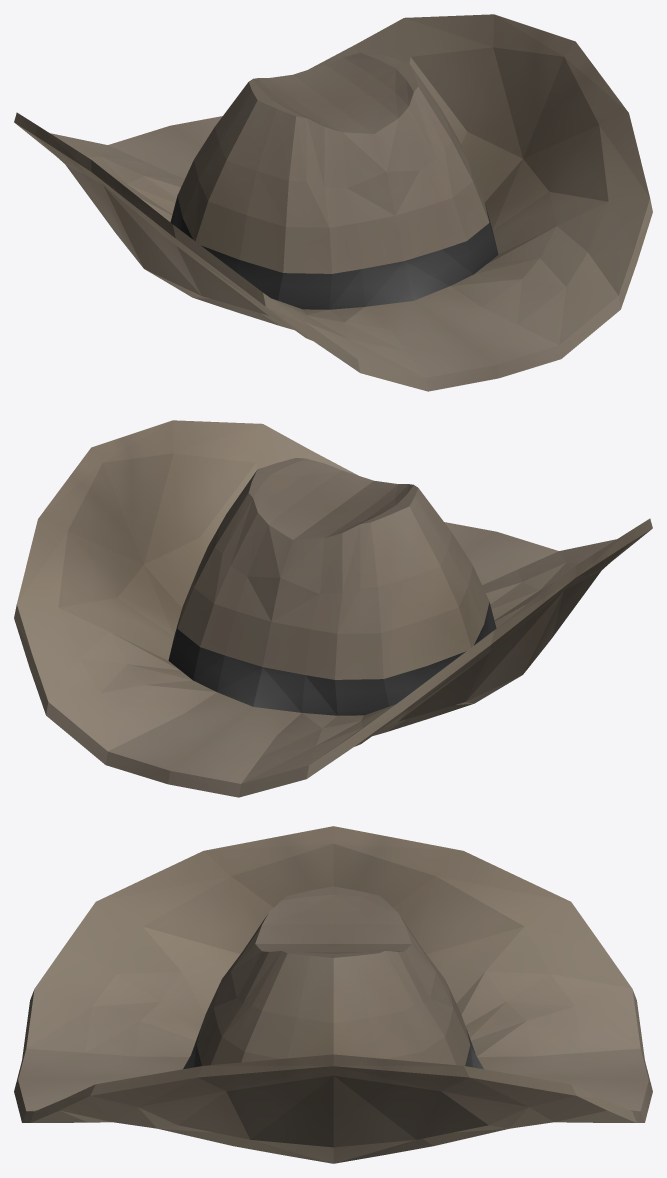
Rendered from Cow Boy Hat.fbx.
3 renders of one model, top to bottom at view 1: azimuth 30°, elevation 25°; view 2: azimuth 150°, elevation 25°; view 3: azimuth 270°, elevation 25°, orthographic. The views are drawn at different scales.
Parts seen in each view (by area): view 1: Cube; view 2: Cube; view 3: Cube.
Boxes of the visible parts, x1,y1,x2,y2 form: Cube: (14,14,652,391); Cube: (14,420,652,797); Cube: (14,826,652,1163).
Size of the model in its own units: 28.64 by 10.25 by 33.88.
